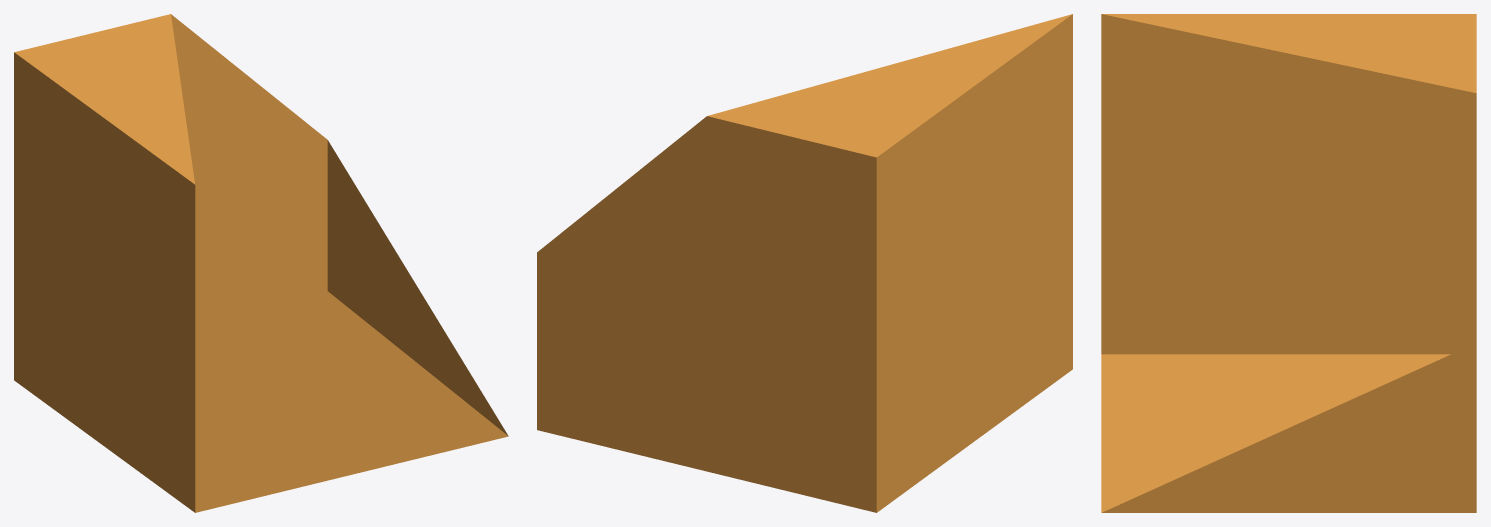
The model's file is r5c3_body_orange.gltf.
The picture shows the model from 3 angles, left to right: view 1: azimuth 30°, elevation 25°; view 2: azimuth 150°, elevation 25°; view 3: azimuth 270°, elevation 25°; orthographic projection. The views are drawn at different scales.
Visible parts, largest first — view 1: r5c3_body_orange; view 2: r5c3_body_orange; view 3: r5c3_body_orange.
Part boxes in pixels (<box>): r5c3_body_orange: <box>14,14,508,512</box>; r5c3_body_orange: <box>537,14,1072,512</box>; r5c3_body_orange: <box>1101,14,1476,512</box>.
Bounding box in the file's own units: 2 × 2 × 2.
Materials: 1 (1 with a texture image).
